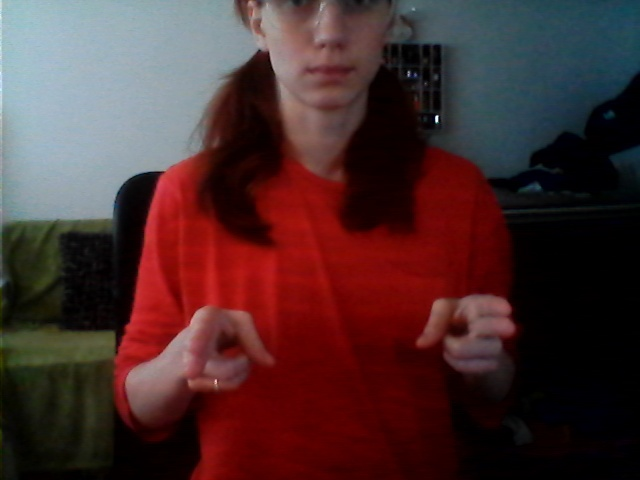ako: (168, 291, 519, 402)
